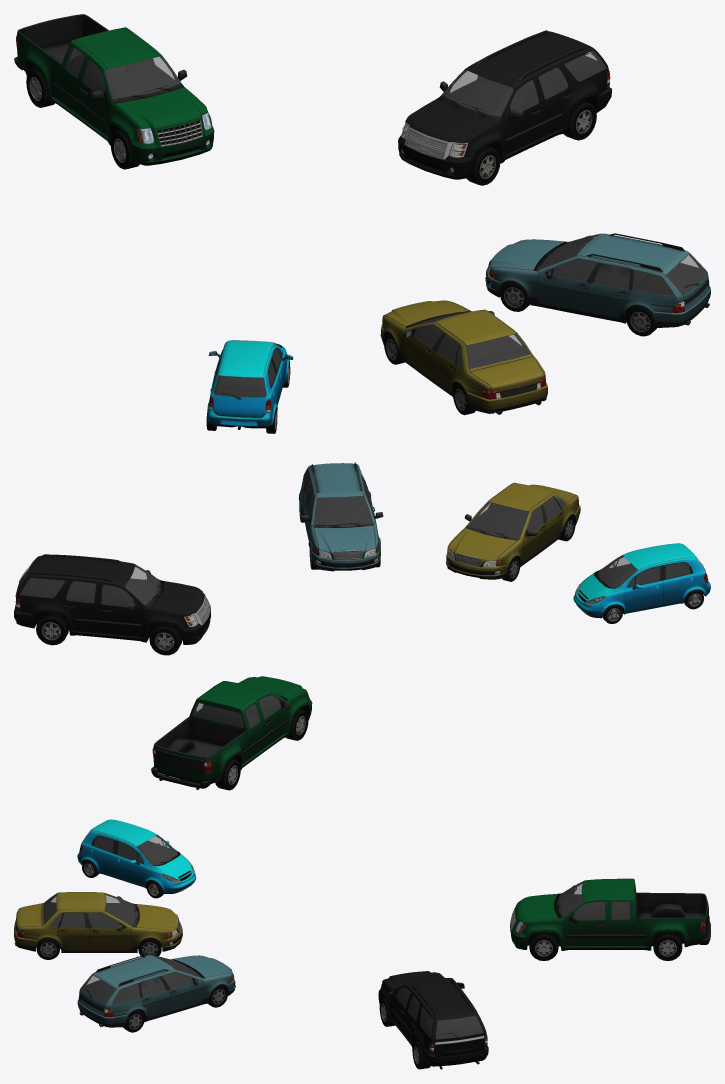
The model's file is traffic.glb.
3 views of the same model, one above another, from view 1: azimuth 30°, elevation 25°; view 2: azimuth 150°, elevation 25°; view 3: azimuth 270°, elevation 25° (orthographic). The views are drawn at different scales.
Parts seen in each view (by area): view 1: SUV Body, Pickup Body, Wagon Body, Sedan Body, Compact Body, Wheel_E001_node, Wheel_E_node, Wheel_A001_node, Wheel_E002, Wheel_E003, Wheel_A_node; view 2: SUV Body, Pickup Body, Sedan Body, Wagon Body, Compact Body, Wheel_E003_node, Wheel_E002_node, Wheel_E003; view 3: Pickup Body, Sedan Body, Wagon Body, SUV Body, Compact Body, Wheel_E001, Wheel_E, Wheel_A003.
Boxes of the visible parts, <box> form: SUV Body: <box>398,30,611,179</box>; Pickup Body: <box>14,14,214,165</box>; Wagon Body: <box>485,233,710,327</box>; Sedan Body: <box>380,300,547,414</box>; Compact Body: <box>207,340,293,429</box>; Wheel_E001_node: <box>563,100,596,140</box>; Wheel_E_node: <box>466,146,500,185</box>; Wheel_A001_node: <box>626,305,656,336</box>; Wheel_E002: <box>110,130,139,169</box>; Wheel_E003: <box>26,68,54,107</box>; Wheel_A_node: <box>500,281,530,311</box>; SUV Body: <box>14,554,210,644</box>; Pickup Body: <box>151,676,312,789</box>; Sedan Body: <box>446,482,580,579</box>; Wagon Body: <box>298,462,383,571</box>; Compact Body: <box>573,543,710,618</box>; Wheel_E003_node: <box>36,612,68,645</box>; Wheel_E002_node: <box>149,623,182,655</box>; Wheel_E003: <box>215,758,240,790</box>; Pickup Body: <box>510,878,710,950</box>; Sedan Body: <box>14,892,182,952</box>; Wagon Body: <box>77,955,235,1027</box>; SUV Body: <box>378,971,488,1069</box>; Compact Body: <box>77,819,196,893</box>; Wheel_E001: <box>653,931,682,960</box>; Wheel_E: <box>529,932,558,960</box>; Wheel_A003: <box>36,937,59,959</box>.
Size of the model in its own units: 15413 by 1955 by 20221.
20 materials, 15 textured.
